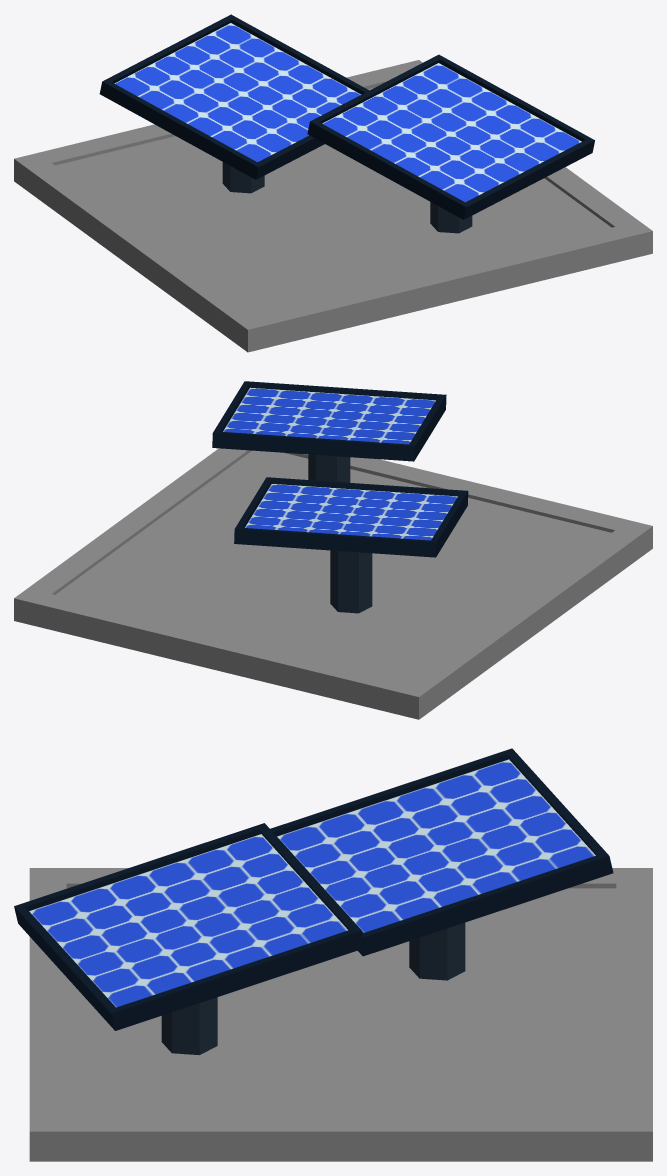
File: SolarPanel_Model.fbx
3 views of the same model, one above another, from view 1: azimuth 30°, elevation 25°; view 2: azimuth 150°, elevation 25°; view 3: azimuth 270°, elevation 25° (orthographic). The views are drawn at different scales.
Parts seen in each view (by area): view 1: pCube7, pCube9, pCube8, pCylinder1, pCylinder2; view 2: pCube7, pCube9, pCube8, pCylinder1, pCylinder2; view 3: pCube7, pCube9, pCube8, pCylinder1, pCylinder2.
Boxes of the visible parts, <box> form: pCube7: <box>14,60,652,352</box>; pCube9: <box>307,54,594,219</box>; pCube8: <box>99,14,369,179</box>; pCylinder1: <box>222,162,264,193</box>; pCylinder2: <box>430,202,472,233</box>; pCube7: <box>14,448,652,719</box>; pCube9: <box>212,381,446,461</box>; pCube8: <box>234,477,468,557</box>; pCylinder1: <box>330,550,372,613</box>; pCylinder2: <box>308,454,350,482</box>; pCube7: <box>29,868,652,1161</box>; pCube9: <box>14,823,365,1030</box>; pCube8: <box>270,748,613,956</box>; pCylinder1: <box>409,922,465,980</box>; pCylinder2: <box>161,997,217,1055</box>.
Size of the model in its own units: 22.06 by 6.76 by 22.62.
